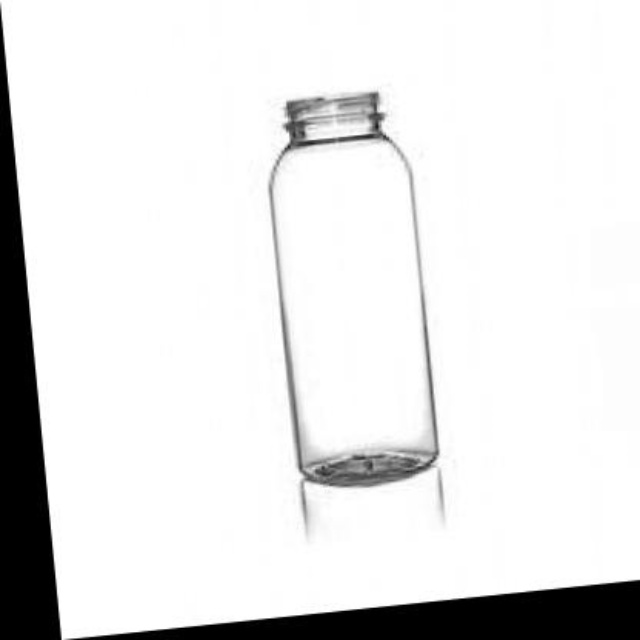trash: (269, 92, 437, 485)
